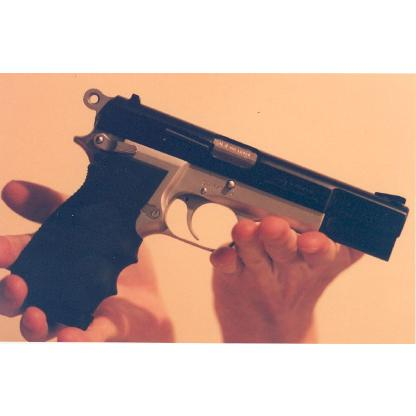gun: (10, 86, 408, 330)
